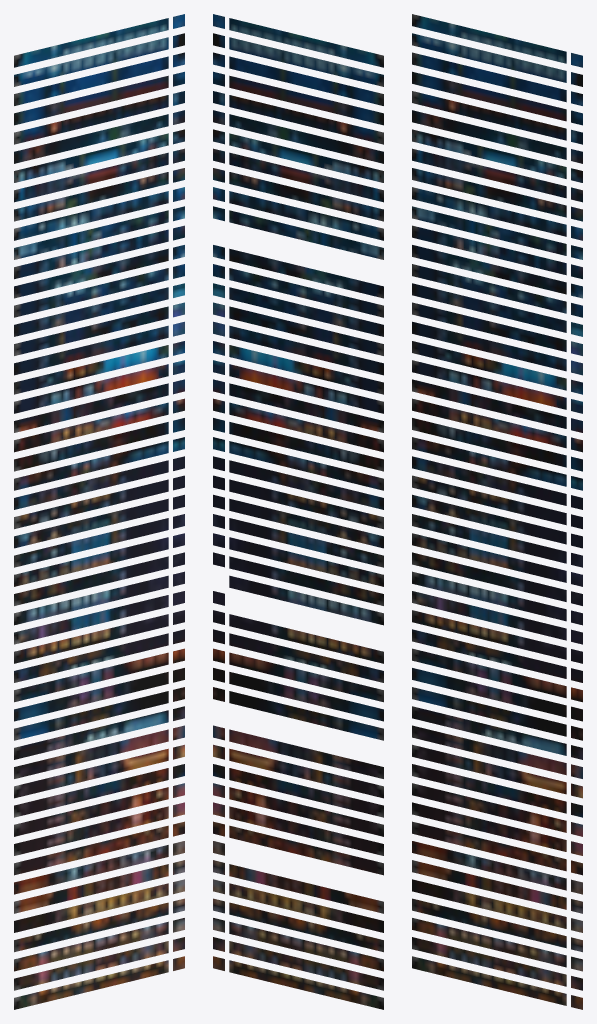
File: Light_Decor3.glb
3 renders of one model, left to right at view 1: azimuth 30°, elevation 25°; view 2: azimuth 150°, elevation 25°; view 3: azimuth 330°, elevation 25°, orthographic.
Visible parts, largest first — view 1: buildings_light_decor_02_geo; view 2: buildings_light_decor_02_geo; view 3: buildings_light_decor_02_geo.
Part boxes in pixels (<box>): buildings_light_decor_02_geo: <box>14,14,184,1009</box>; buildings_light_decor_02_geo: <box>213,14,383,1009</box>; buildings_light_decor_02_geo: <box>412,14,582,1009</box>.
Size of the model in its own units: 4.36 by 23.29 by 6.26e-06.
1 material, 1 textured.
